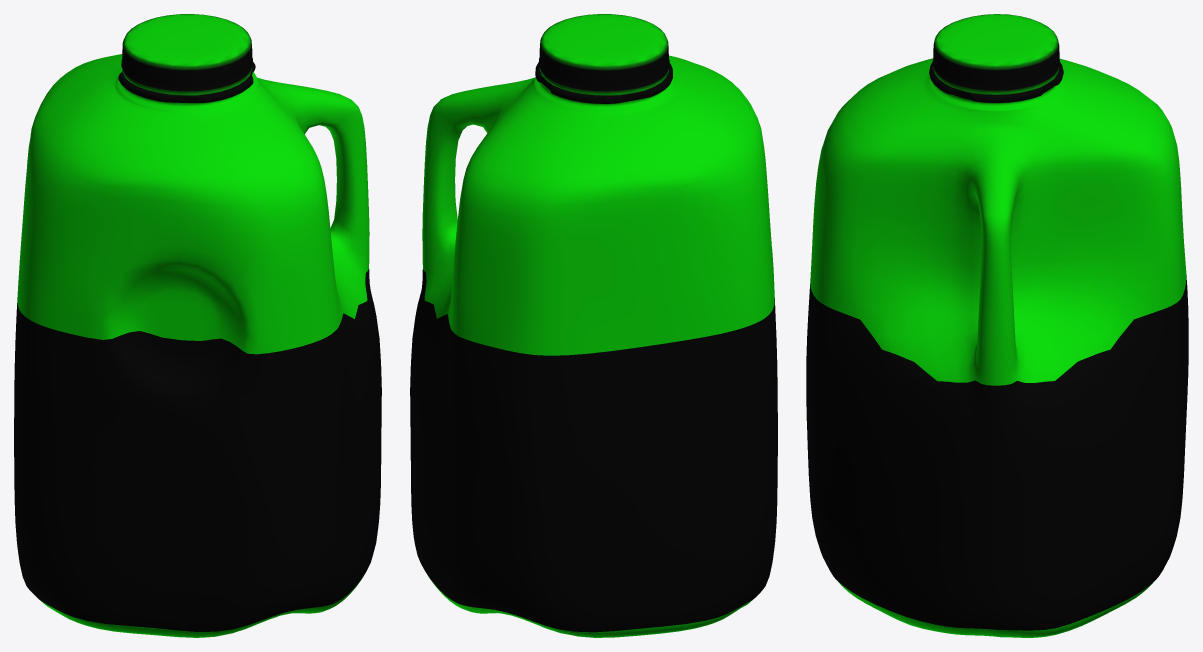
File: MilkHP.fbx
3 renders of one model, left to right at view 1: azimuth 30°, elevation 25°; view 2: azimuth 150°, elevation 25°; view 3: azimuth 270°, elevation 25°, orthographic. The views are drawn at different scales.
Parts seen in each view (by area): view 1: Milk_HP; view 2: Milk_HP; view 3: Milk_HP.
Part boxes in pixels (<box>): Milk_HP: <box>14,14,381,637</box>; Milk_HP: <box>410,14,777,637</box>; Milk_HP: <box>806,14,1188,637</box>.
Size of the model in its own units: 11.2 by 17 by 11.07.
